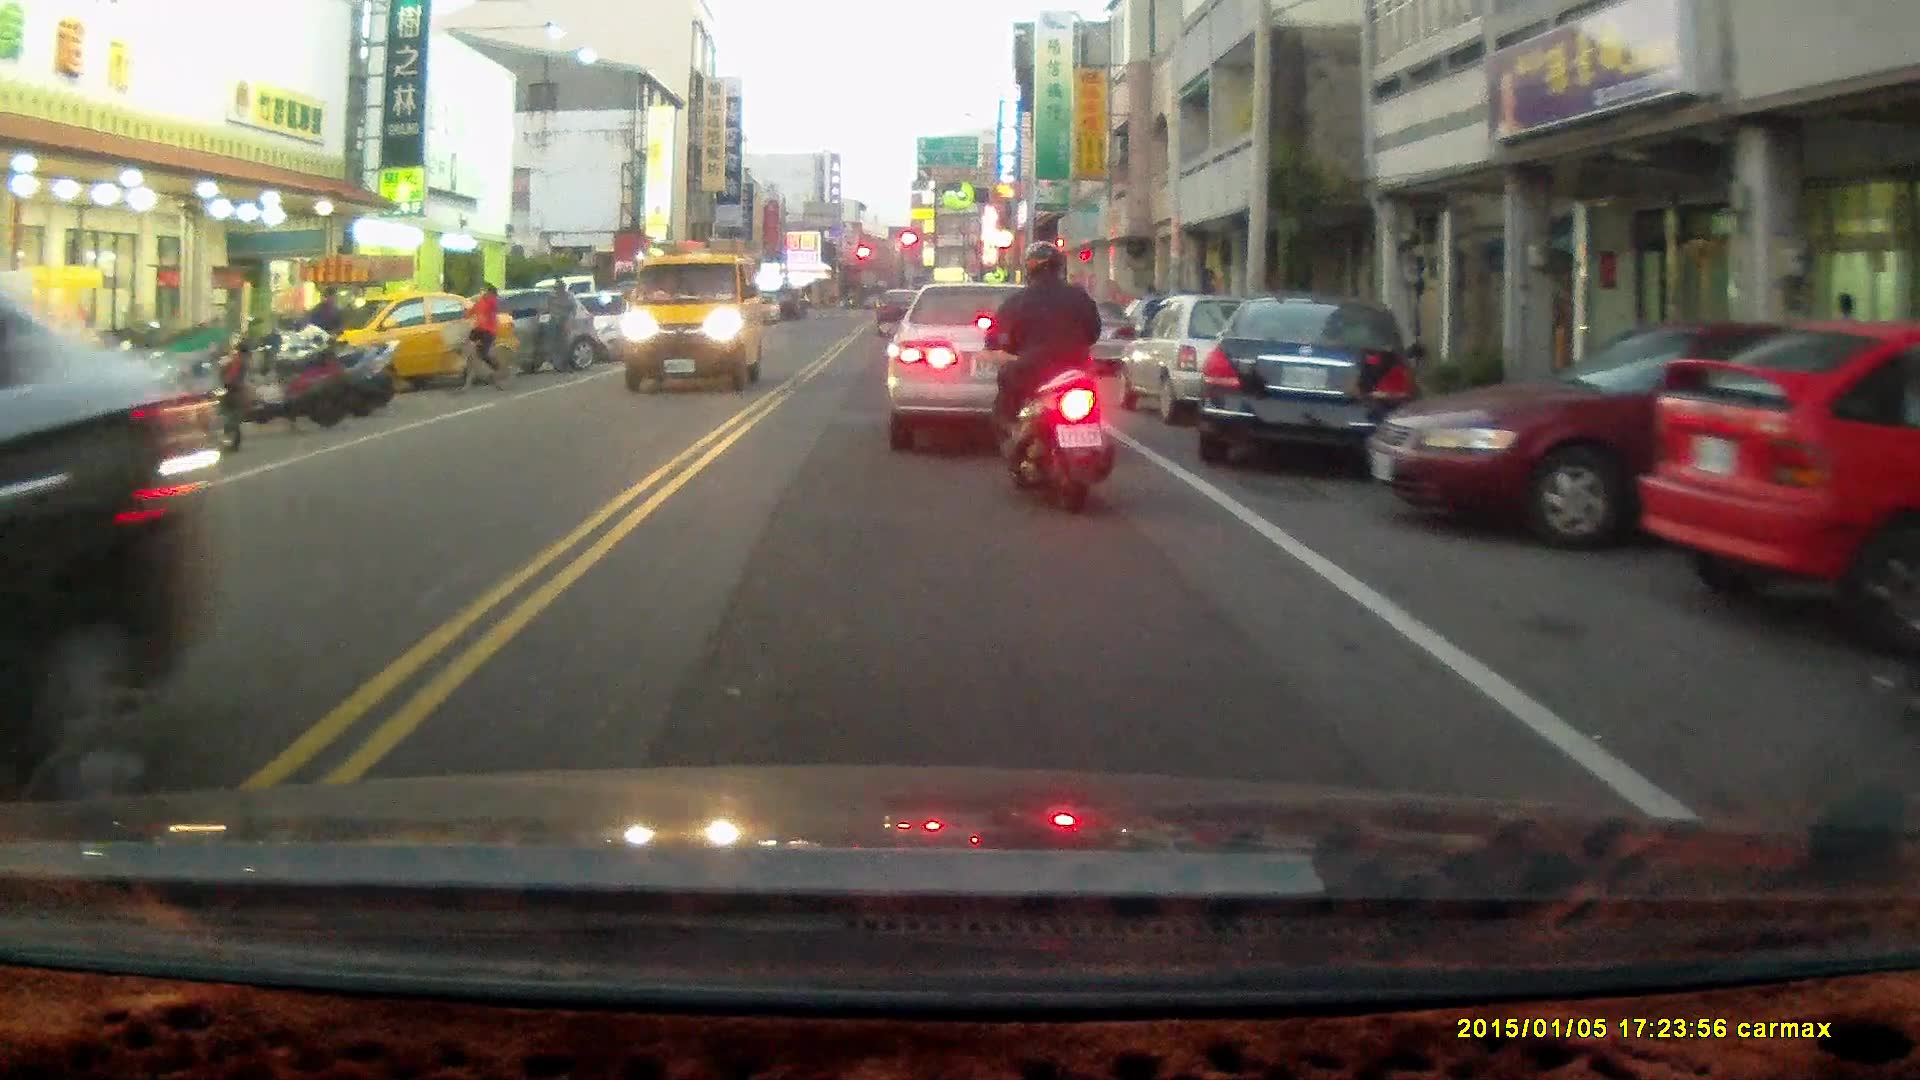pedestrian: (543, 274, 579, 373), (308, 283, 345, 371)
rider: (971, 234, 1120, 515), (437, 279, 516, 398)
vehicle: (1, 240, 266, 804), (1379, 312, 1856, 552), (1642, 316, 1920, 636), (1193, 291, 1424, 467), (890, 271, 1098, 437), (1111, 290, 1302, 427), (621, 242, 762, 391), (335, 288, 523, 386)
